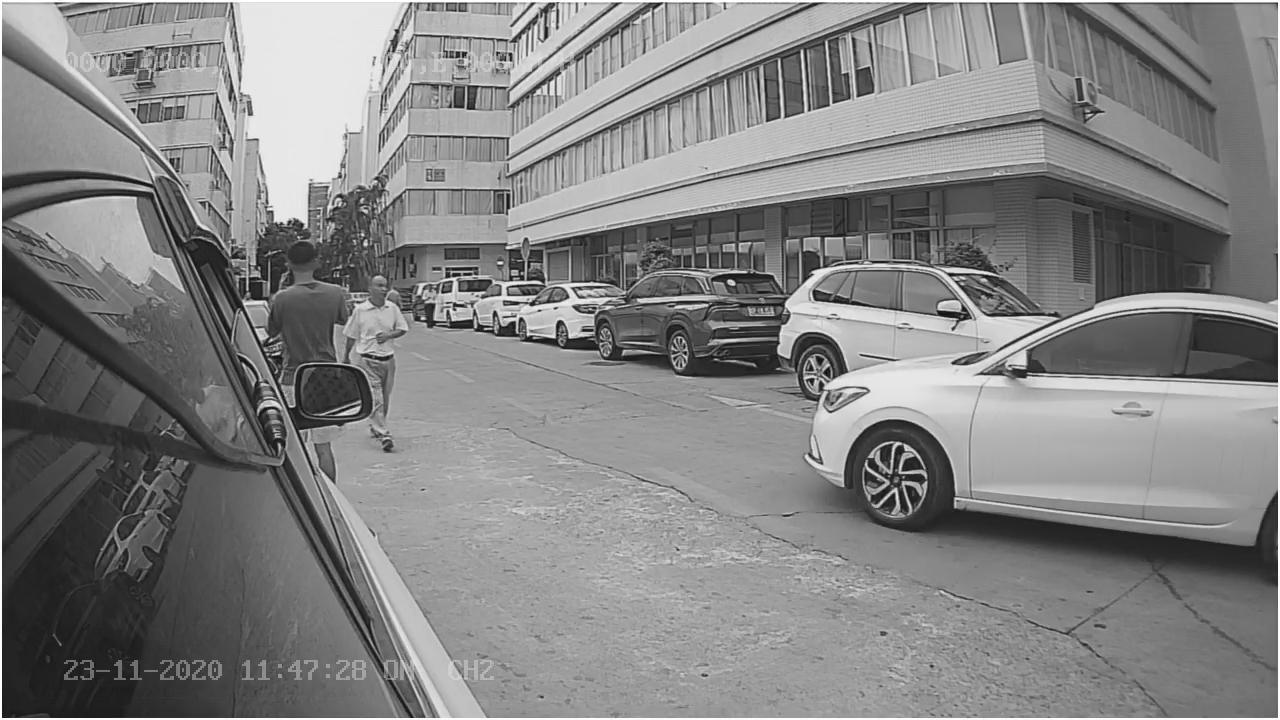person: (260, 233, 350, 349)
